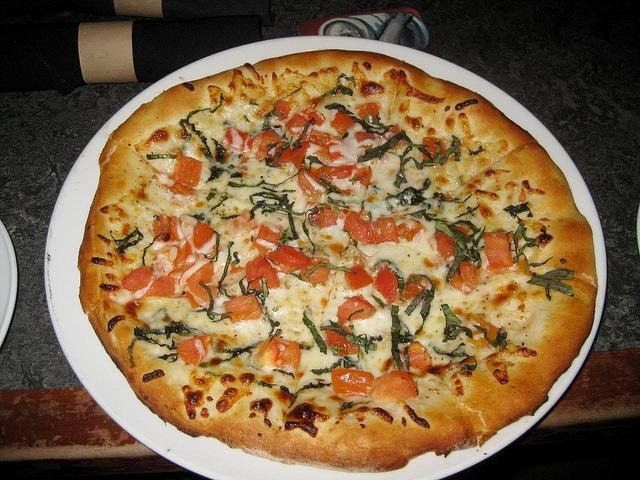tomato: (256, 329, 308, 377), (340, 209, 400, 245), (372, 370, 417, 401), (223, 294, 264, 324), (246, 256, 280, 292), (482, 232, 514, 270), (337, 296, 376, 326), (331, 368, 374, 395), (268, 246, 311, 273), (178, 334, 214, 365), (325, 326, 358, 356), (374, 264, 398, 305), (174, 154, 202, 188), (121, 265, 152, 294), (141, 275, 176, 297), (188, 282, 220, 306), (153, 214, 181, 241), (344, 265, 373, 291), (309, 203, 338, 229), (224, 127, 255, 151), (316, 164, 356, 182), (408, 341, 432, 369), (298, 169, 322, 196), (434, 232, 456, 260), (187, 262, 215, 284), (314, 141, 343, 162), (422, 136, 446, 161), (458, 261, 478, 290), (172, 237, 192, 266), (258, 224, 282, 248), (331, 111, 354, 136), (193, 224, 214, 250), (286, 112, 308, 132), (354, 168, 372, 190), (358, 103, 380, 120), (274, 142, 290, 163), (356, 132, 374, 150), (276, 100, 291, 121), (292, 149, 307, 169), (308, 112, 326, 126), (359, 210, 368, 215)
